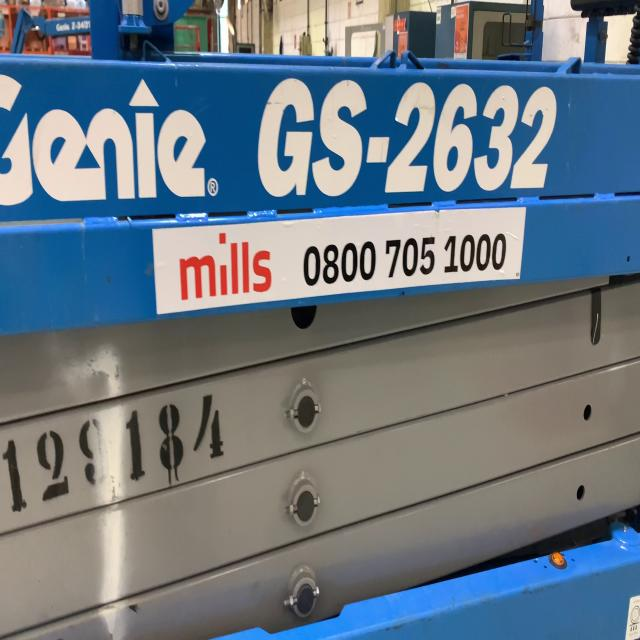Adesivo Longo: (148, 203, 527, 320)
